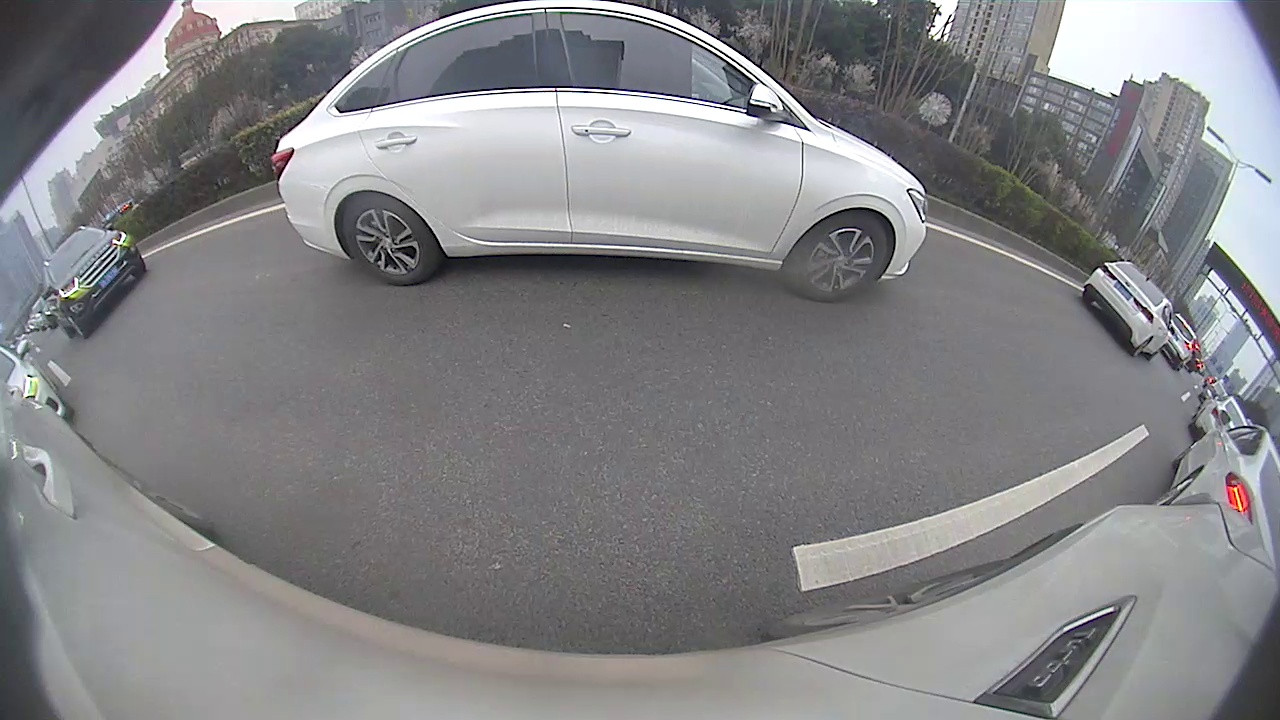car: (269, 1, 930, 304), (1152, 409, 1277, 553), (41, 225, 147, 339), (1082, 260, 1178, 362)
front: (787, 208, 893, 302)
rear: (341, 196, 436, 288)
